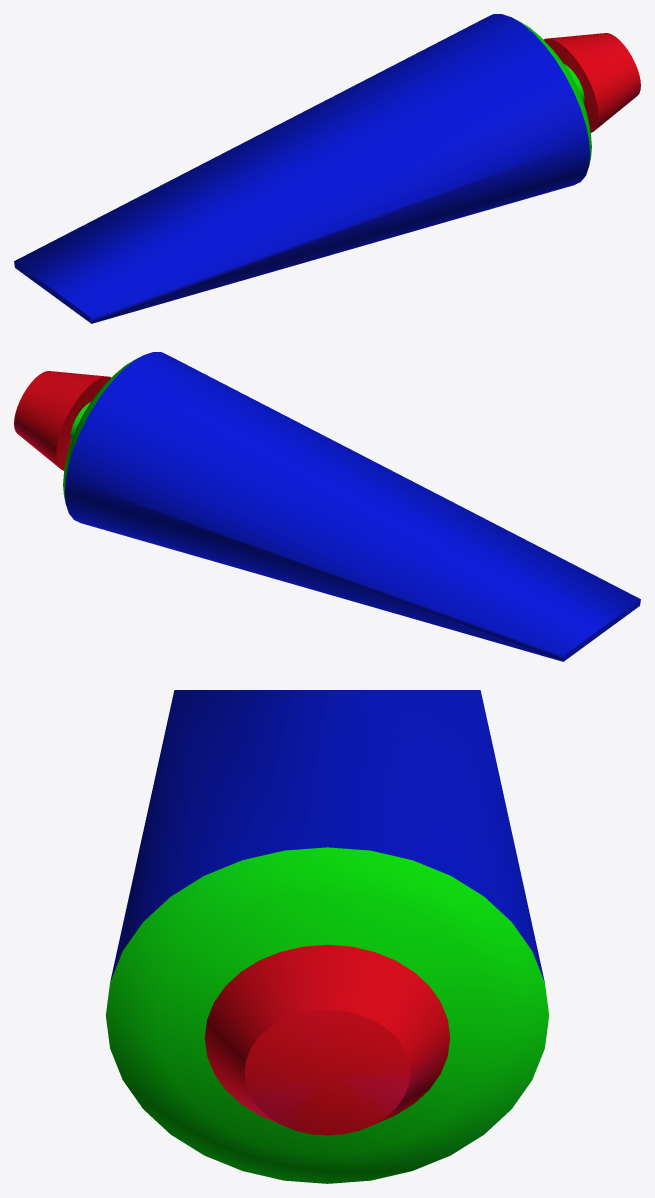
File: pasta.fbx
3 views of the same model, one above another, from view 1: azimuth 30°, elevation 25°; view 2: azimuth 150°, elevation 25°; view 3: azimuth 270°, elevation 25° (orthographic). The views are drawn at different scales.
Visible parts, largest first — view 1: Toothpaste; view 2: Toothpaste; view 3: Toothpaste.
Part boxes in pixels (x1=…): Toothpaste: x1=14, y1=14, x2=640, y2=323; Toothpaste: x1=14, y1=352, x2=640, y2=661; Toothpaste: x1=105, y1=690, x2=549, y2=1183.
Bounding box in the file's own units: 1735 × 454 × 579.
